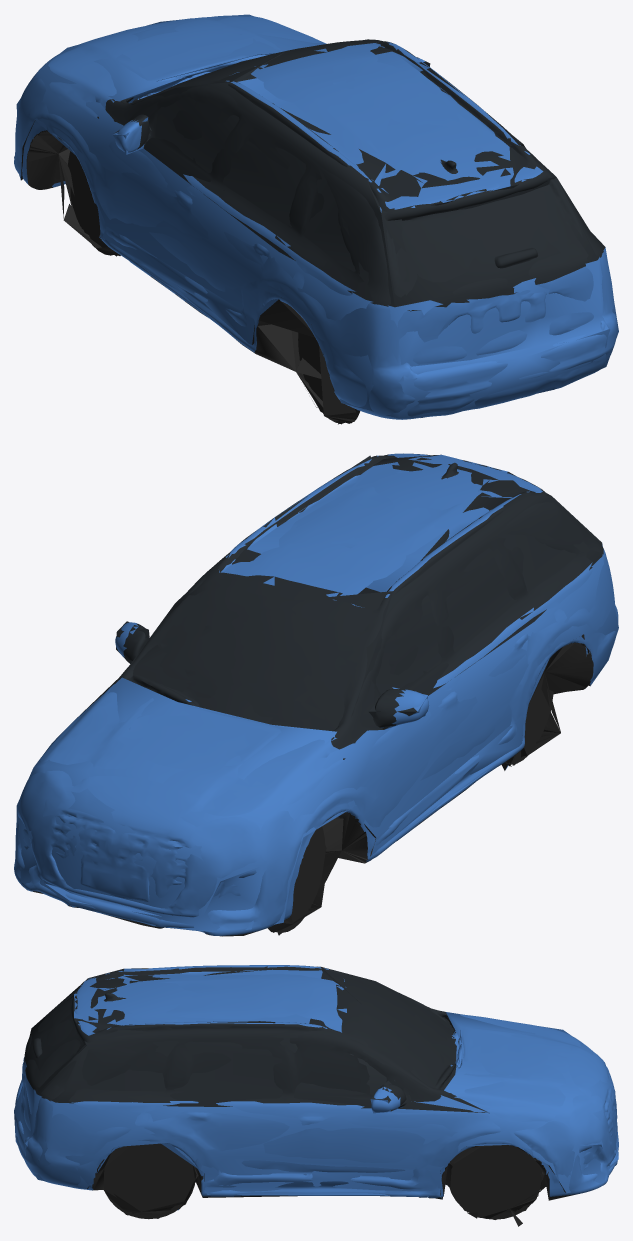
File: audi-sq7.glb
3 renders of one model, top to bottom at view 1: azimuth 30°, elevation 25°; view 2: azimuth 150°, elevation 25°; view 3: azimuth 270°, elevation 25°, orthographic. The views are drawn at different scales.
Visible parts, largest first — view 1: body, far; view 2: body, far; view 3: body, far.
Boxes of the visible parts, <box> form: body: <box>14,15,617,424</box>; far: <box>14,14,618,424</box>; body: <box>14,453,618,936</box>; far: <box>16,454,618,935</box>; body: <box>15,965,618,1226</box>; far: <box>14,966,618,1219</box>.
Bounding box in the file's own units: 2.24 × 1.78 × 5.08.
